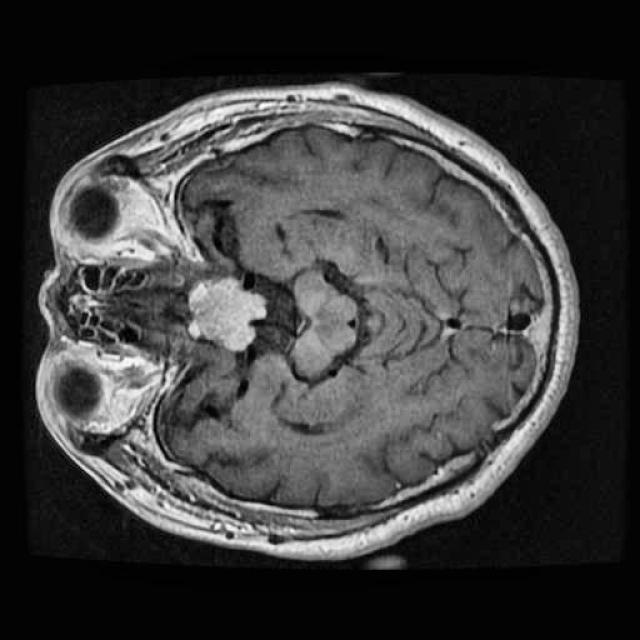Tumor: (180, 269, 276, 368)
